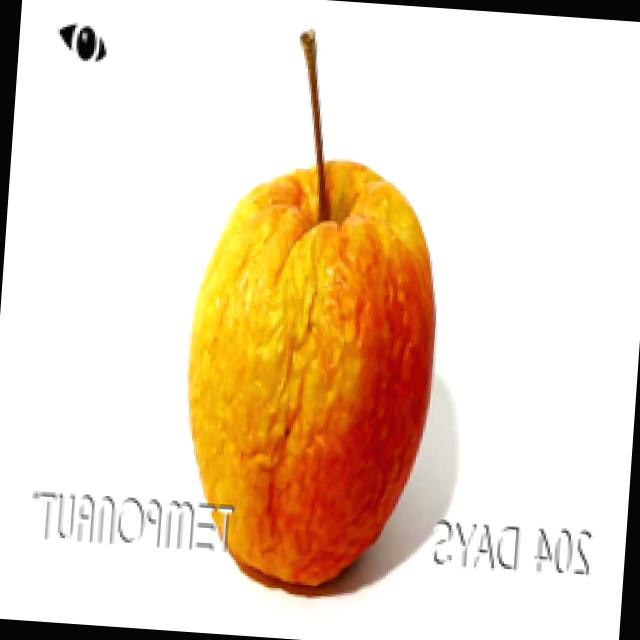Rotten_Apple: (164, 13, 479, 607)
